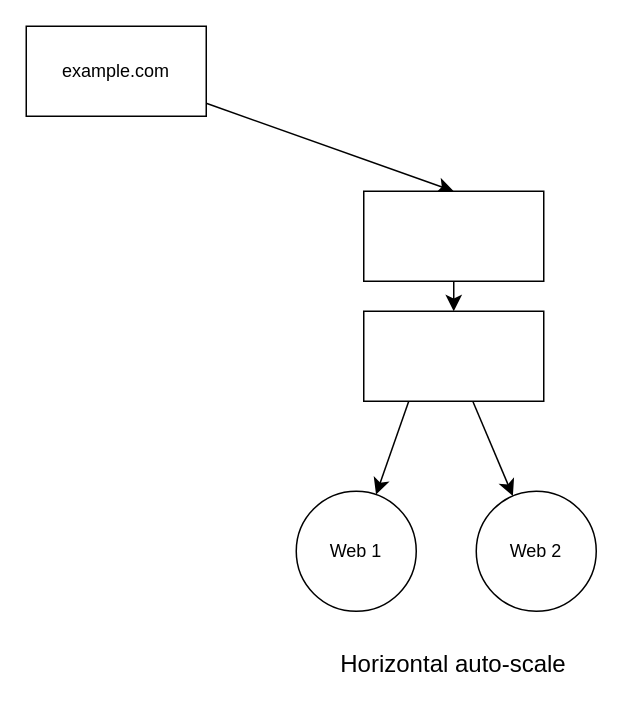
Image size: 638x713. Some labels were removed from this diagram. The centre of each missing label's shape, as x and y in pixels:
"CloudFlare" belongs at [453,235].
"Load Balancer" belongs at [453,355].
